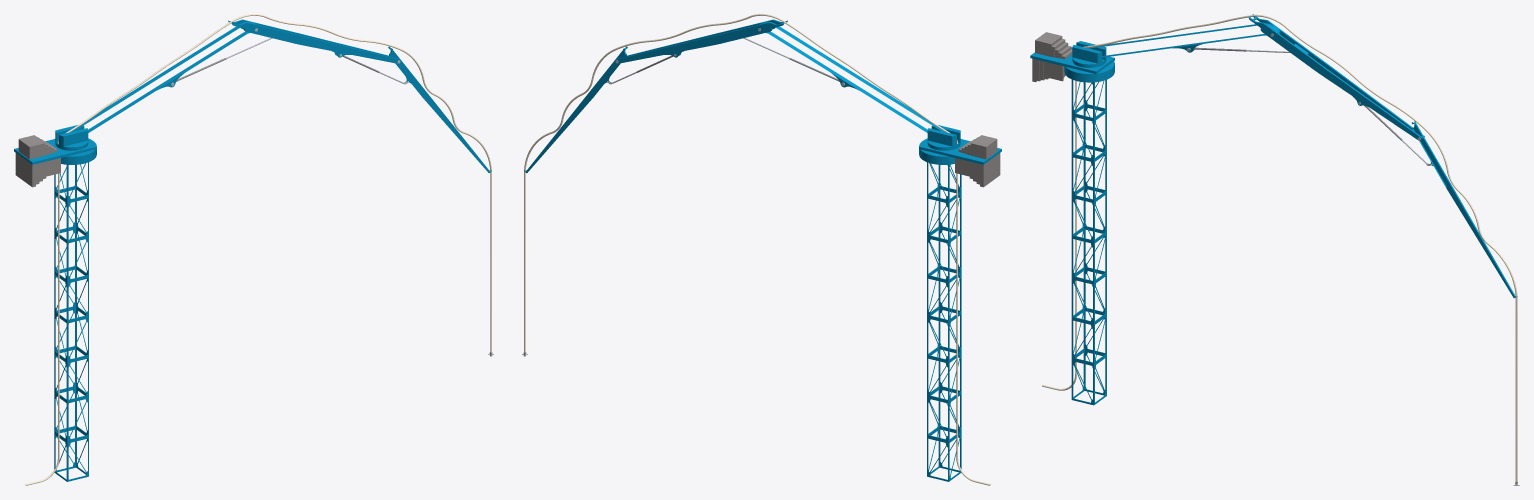
Rendered from concrete-placing-boom.glb.
3 views of the same model, side by side, from view 1: azimuth 30°, elevation 25°; view 2: azimuth 150°, elevation 25°; view 3: azimuth 330°, elevation 25° (orthographic).
Visible parts, largest first — view 1: Geom3D_4, Geom3D_12, Geom3D_7, Geom3D_8; view 2: Geom3D_4, Geom3D_12, Geom3D_7, Geom3D_8; view 3: Geom3D_12, Geom3D_4, Geom3D_7, Geom3D_8.
Boxes of the visible parts, left/top/right/bottom form: Geom3D_4: left=14, top=19, right=491, bottom=173; Geom3D_12: left=54, top=162, right=88, bottom=481; Geom3D_7: left=25, top=14, right=491, bottom=485; Geom3D_8: left=15, top=135, right=60, bottom=187; Geom3D_4: left=524, top=19, right=1001, bottom=173; Geom3D_12: left=927, top=162, right=961, bottom=481; Geom3D_7: left=524, top=14, right=990, bottom=485; Geom3D_8: left=955, top=135, right=1000, bottom=187; Geom3D_12: left=1071, top=79, right=1106, bottom=405; Geom3D_4: left=1030, top=14, right=1516, bottom=297; Geom3D_7: left=1042, top=14, right=1517, bottom=482; Geom3D_8: left=1032, top=32, right=1072, bottom=82.
Bounding box in the file's own units: 29.55 × 25.02 × 2.7.
Materials: 7 (3 with a texture image).
